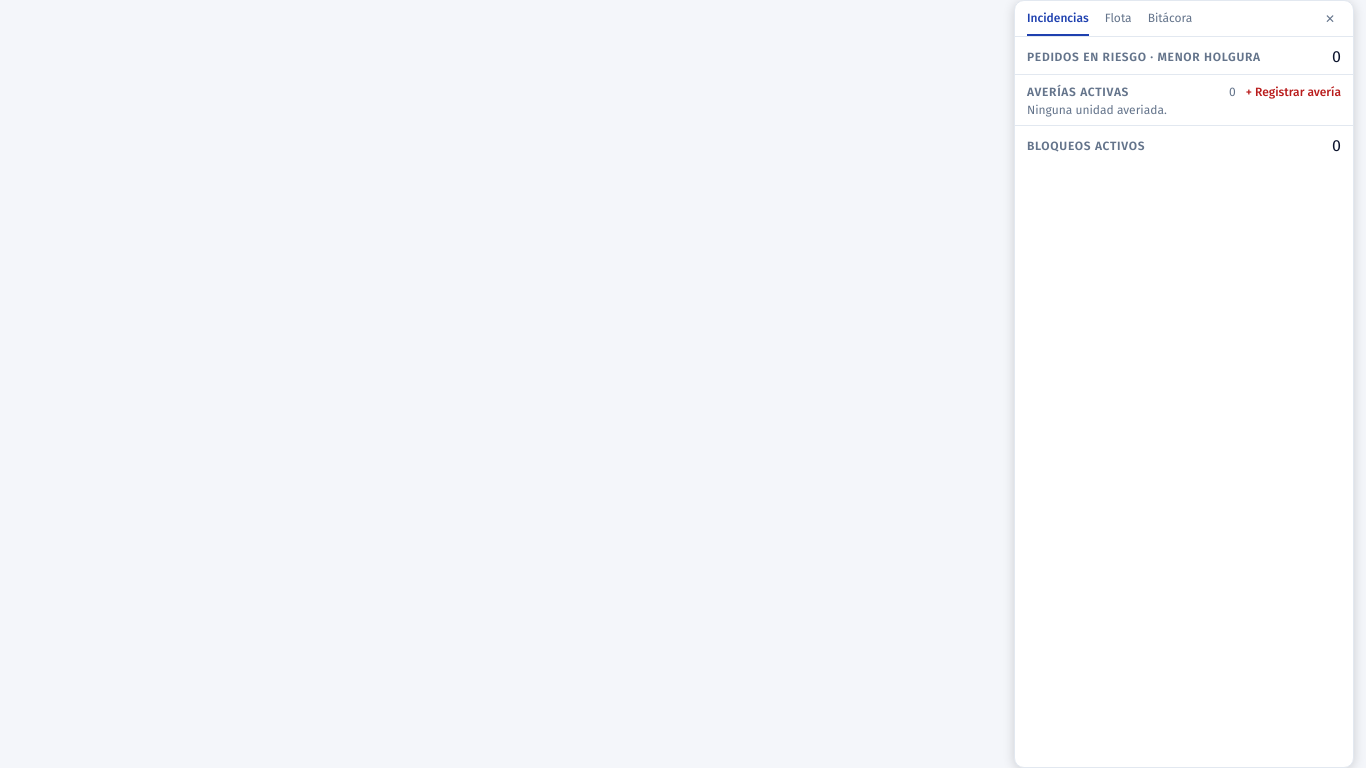
Test: PanelLateral · averías › en Incidencias el acceso dice "+ Registrar avería" y abre el diálogo con buscador
Click the button "+ Registrar avería". click: (1293, 92)
box: x1=1246 y1=85 x2=1341 y2=99
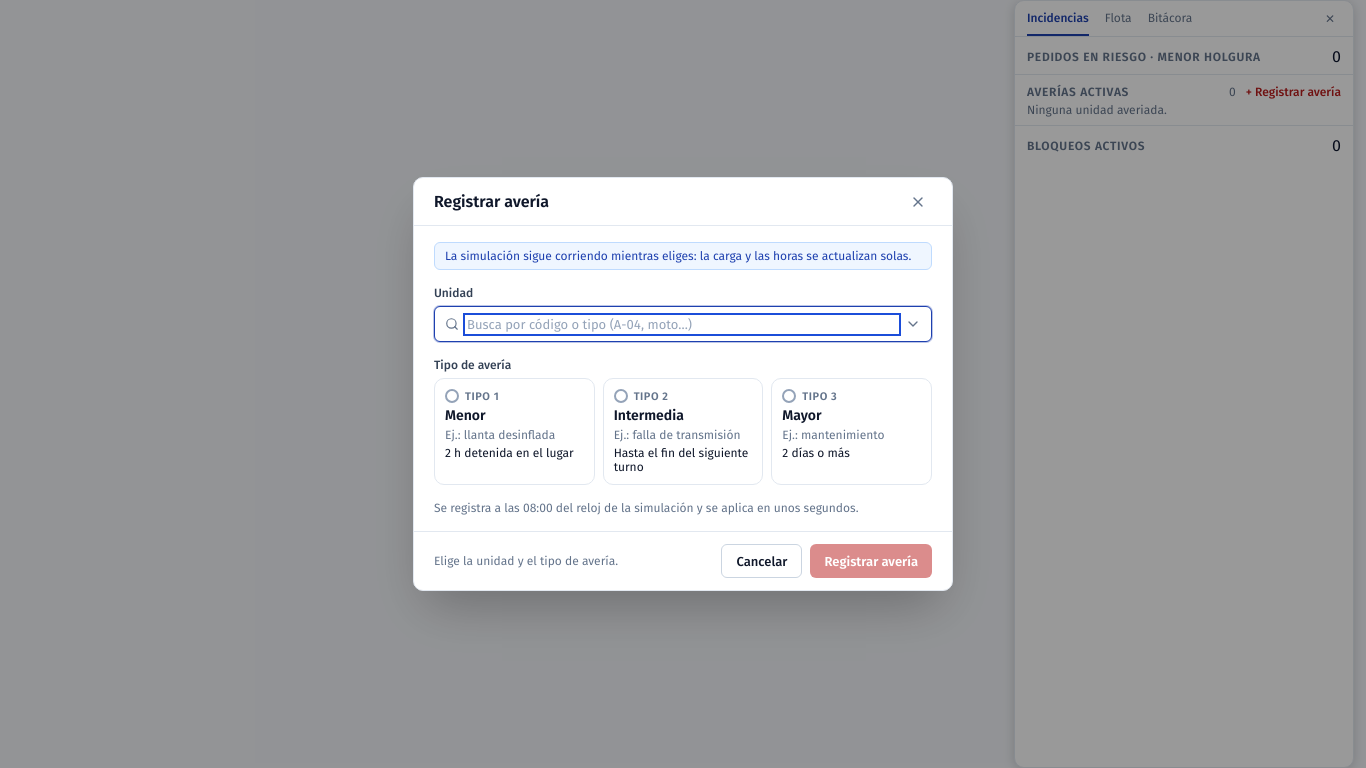
Expected: the dialog "Registrar avería" is shown, x1=413 y1=177 x2=953 y2=591
Expected: the dropdown named "Unidad" is shown, x1=467 y1=316 x2=897 y2=332
